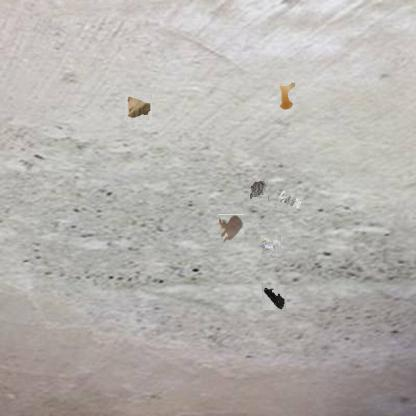dirty: (125, 93, 151, 120), (262, 284, 286, 310), (277, 189, 303, 211), (260, 235, 280, 256), (250, 182, 268, 204)
liquid: (218, 214, 244, 243), (278, 82, 297, 110)
